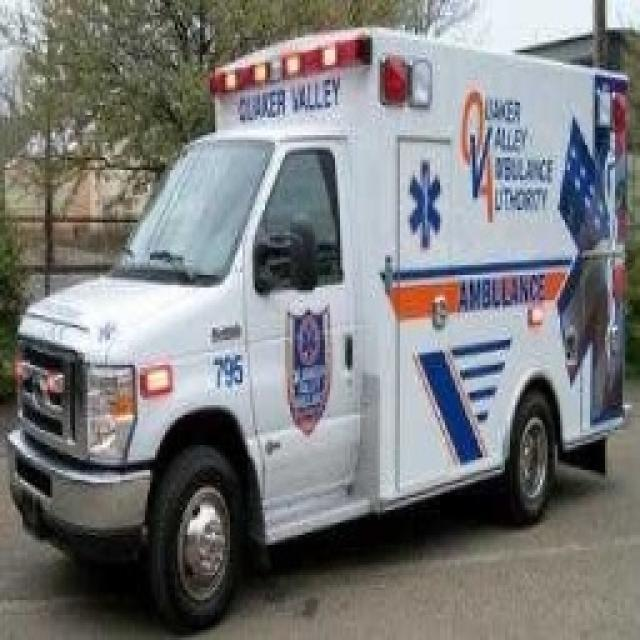ambulance: (10, 30, 627, 629)
